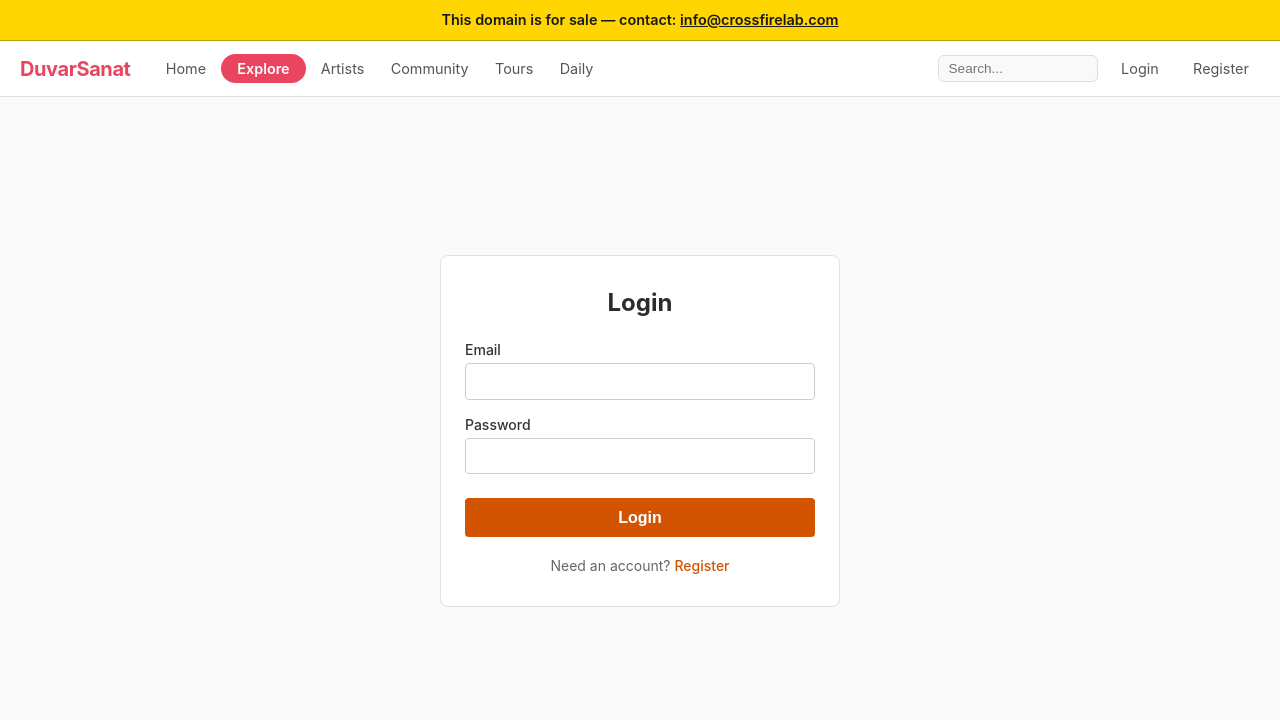
it: LoginPage › shows validation error for empty email only
The image size is (1280, 720).
Type "somepassword" into the password field labelled "Password". click: (640,456)
box: [465,438,815,474]
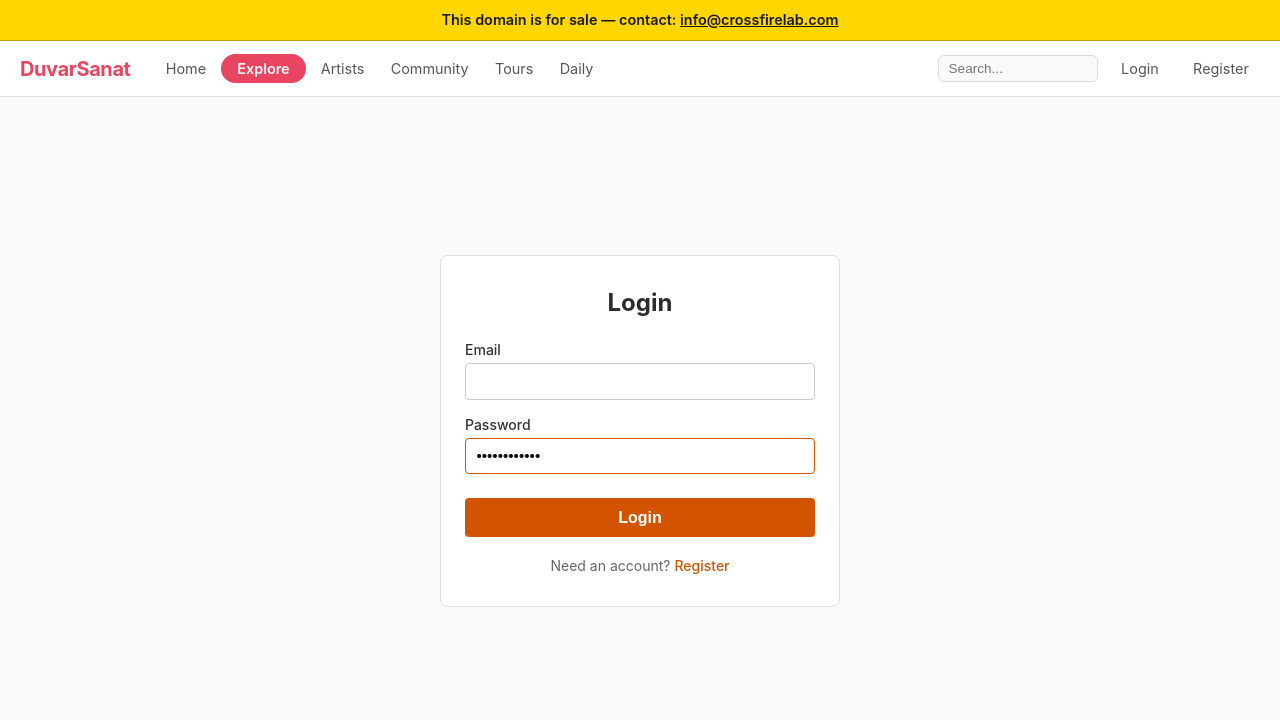
Click the button "Login". click: (640,518)
box: [465,498,815,537]
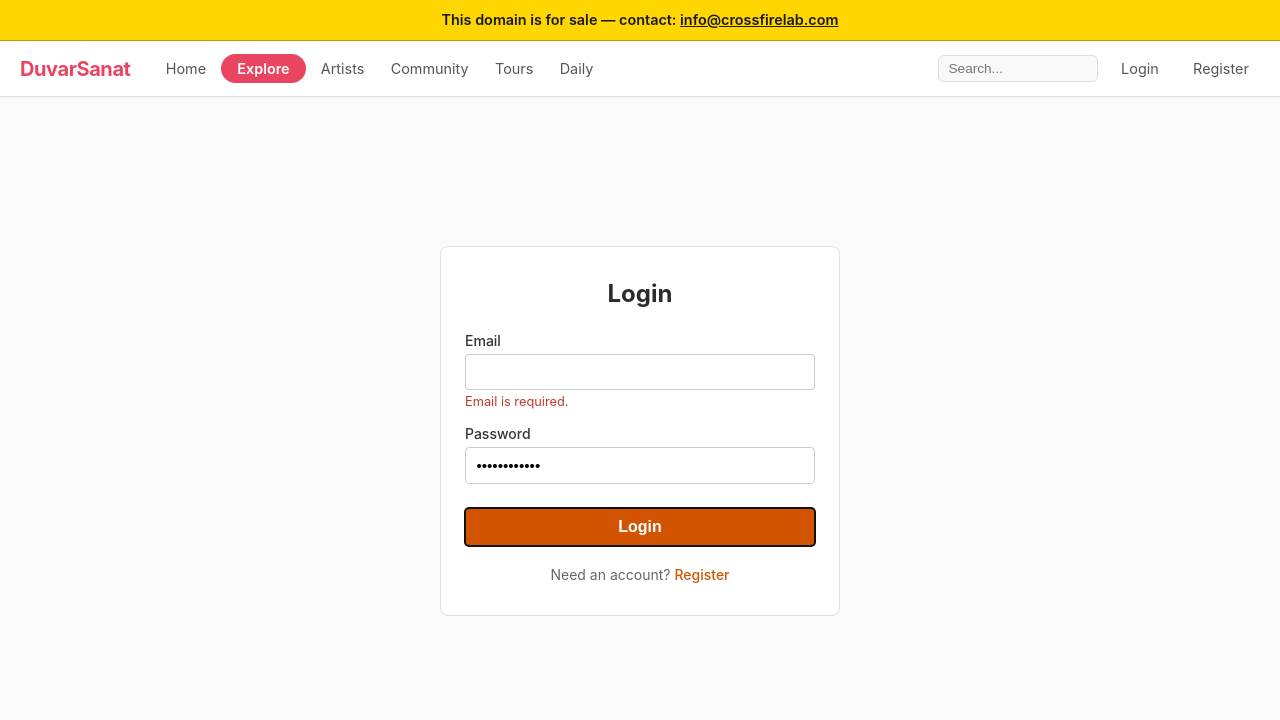
Now the text "Email is required." is shown, box [465,394,568,409]
